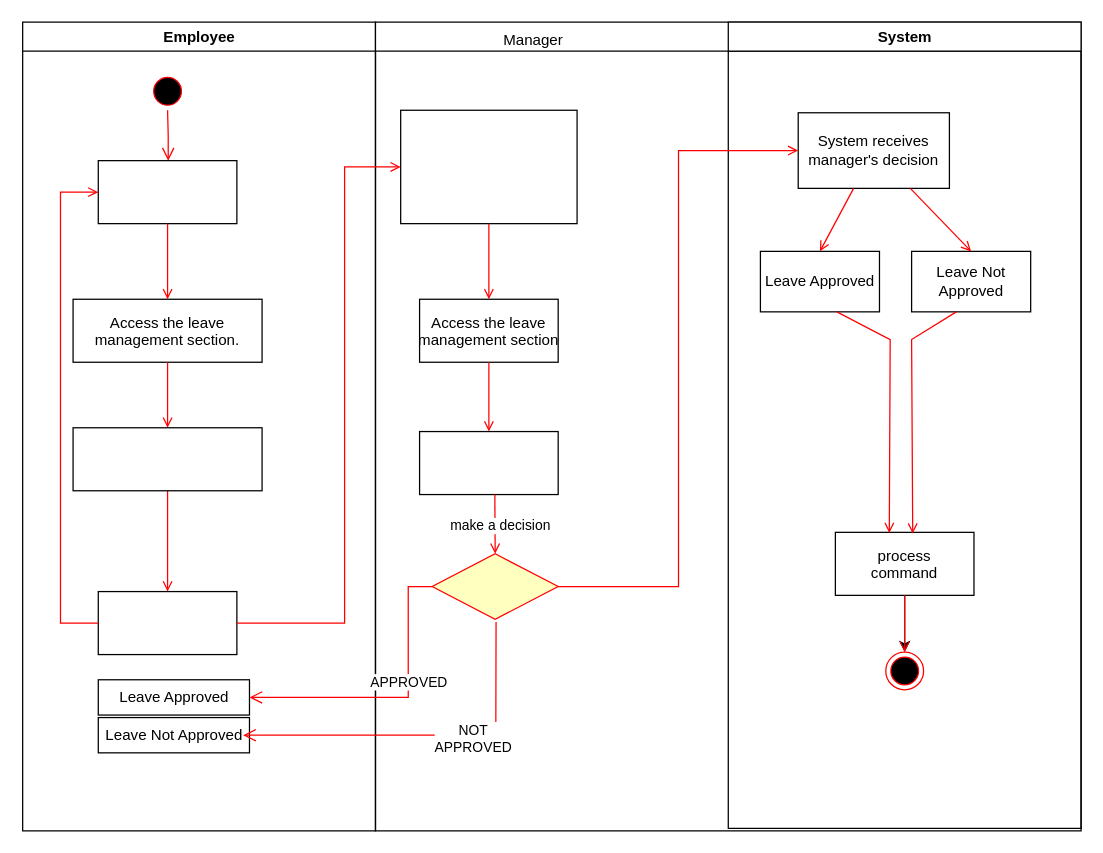
Image size: 1103x853. Some labels were removed from this diagram. The centre of each missing label's shape, as x and y in pixels:
"Fill out leave request details" belongs at pixel 167 459.
"Log in" belongs at pixel 167 191.
"Manager receives leave request notification" belongs at pixel 488 166.
"Review details" belongs at pixel 488 462.
"Submit the request" belongs at pixel 167 622.
